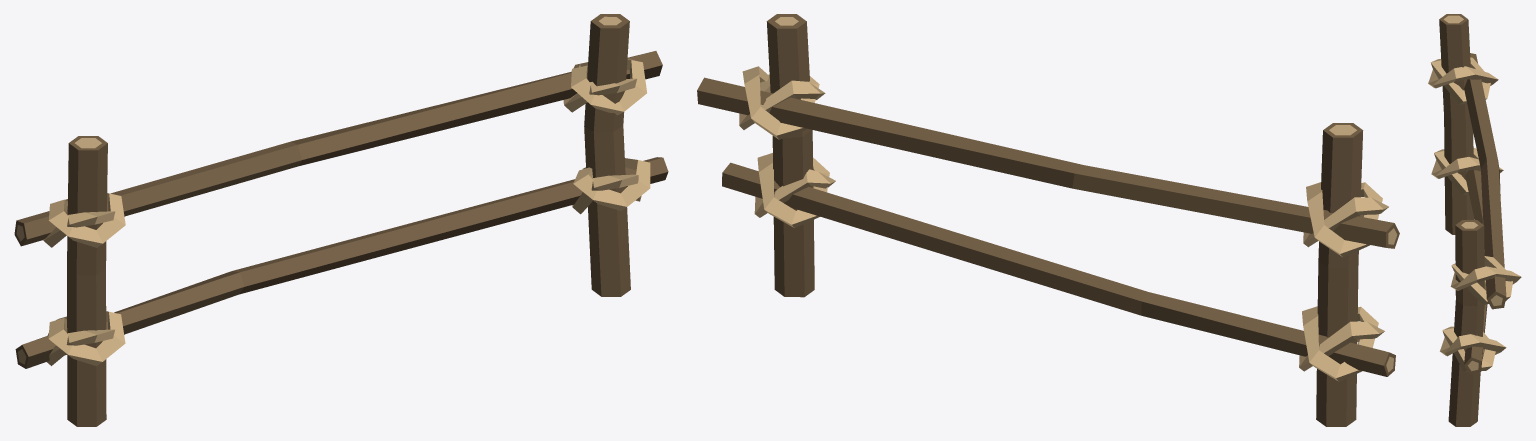
File: rpgpp_ag_wall_platform_01_handrail_02_4m.fbx
The picture shows the model from 3 angles, left to right: view 1: azimuth 30°, elevation 25°; view 2: azimuth 150°, elevation 25°; view 3: azimuth 270°, elevation 25°; orthographic projection. The views are drawn at different scales.
Visible parts, largest first — view 1: rpgpp_ag_wall_platform_01_handrail_02_4m; view 2: rpgpp_ag_wall_platform_01_handrail_02_4m; view 3: rpgpp_ag_wall_platform_01_handrail_02_4m.
Part boxes in pixels (bbox=[...]): rpgpp_ag_wall_platform_01_handrail_02_4m: bbox=[14, 14, 668, 426]; rpgpp_ag_wall_platform_01_handrail_02_4m: bbox=[697, 14, 1399, 426]; rpgpp_ag_wall_platform_01_handrail_02_4m: bbox=[1428, 14, 1521, 426].
Size of the model in its own units: 3.62 by 1.48 by 0.6013.
